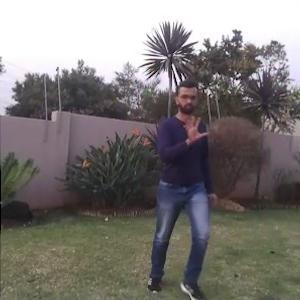follow_hand: (180, 111, 211, 144)
